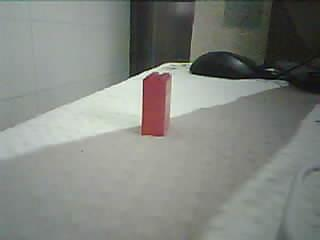lego: (139, 70, 172, 138)
